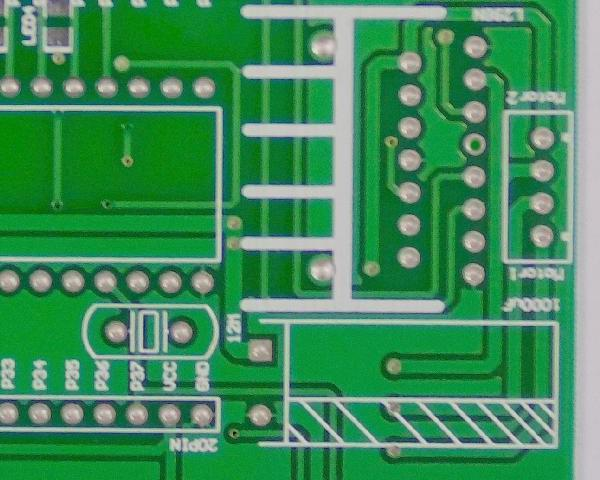missing hole: (458, 131, 490, 158)
